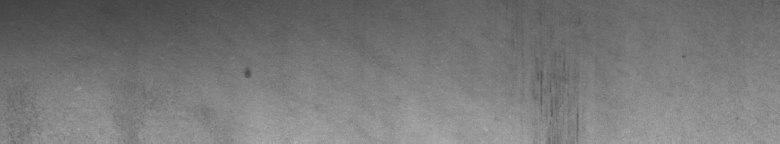ka: (534, 61, 580, 132)
